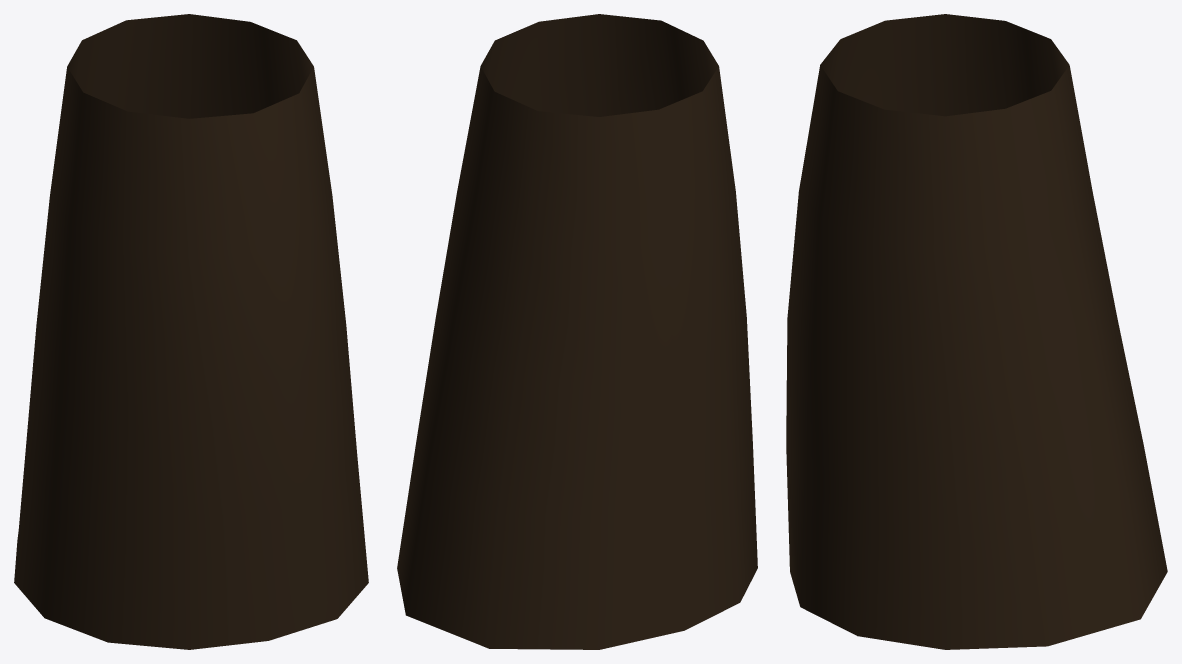
The model's file is pirate_outfit_cuisse.L.glb.
3 renders of one model, left to right at view 1: azimuth 30°, elevation 25°; view 2: azimuth 150°, elevation 25°; view 3: azimuth 270°, elevation 25°, orthographic. The views are drawn at different scales.
Parts seen in each view (by area): view 1: pirate_outfit_cuisse.L; view 2: pirate_outfit_cuisse.L; view 3: pirate_outfit_cuisse.L.
Boxes of the visible parts, left/top/right/bottom form: pirate_outfit_cuisse.L: left=14, top=14, right=368, bottom=649; pirate_outfit_cuisse.L: left=397, top=14, right=757, bottom=649; pirate_outfit_cuisse.L: left=786, top=14, right=1167, bottom=649.
Size of the model in its own units: 0.2312 by 0.37 by 0.2524.
